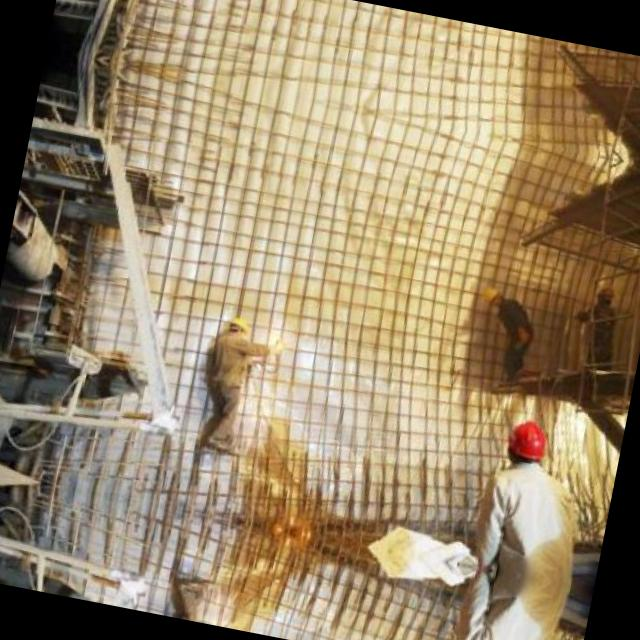helmet: (502, 416, 554, 476), (224, 317, 252, 344), (482, 282, 506, 310), (594, 281, 617, 307)
